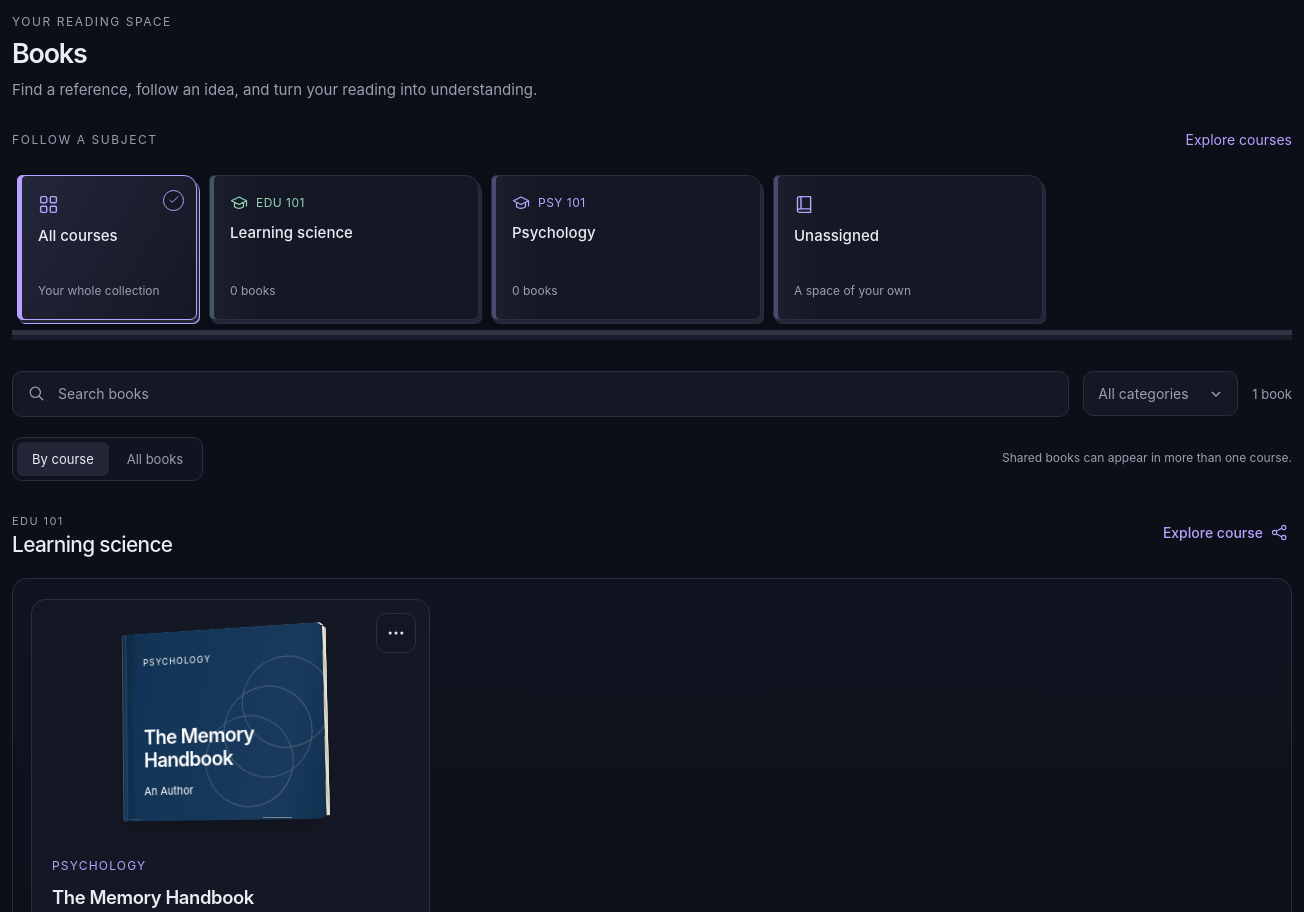
Scenario: connected study spaces › lets a shared book appear in each course shelf and switches to one complete collection
The image size is (1304, 912).
Expected: the heading "Learning science" is shown, [12, 532, 172, 558]
Click the button "All books" at (155, 459), box [112, 442, 198, 476]
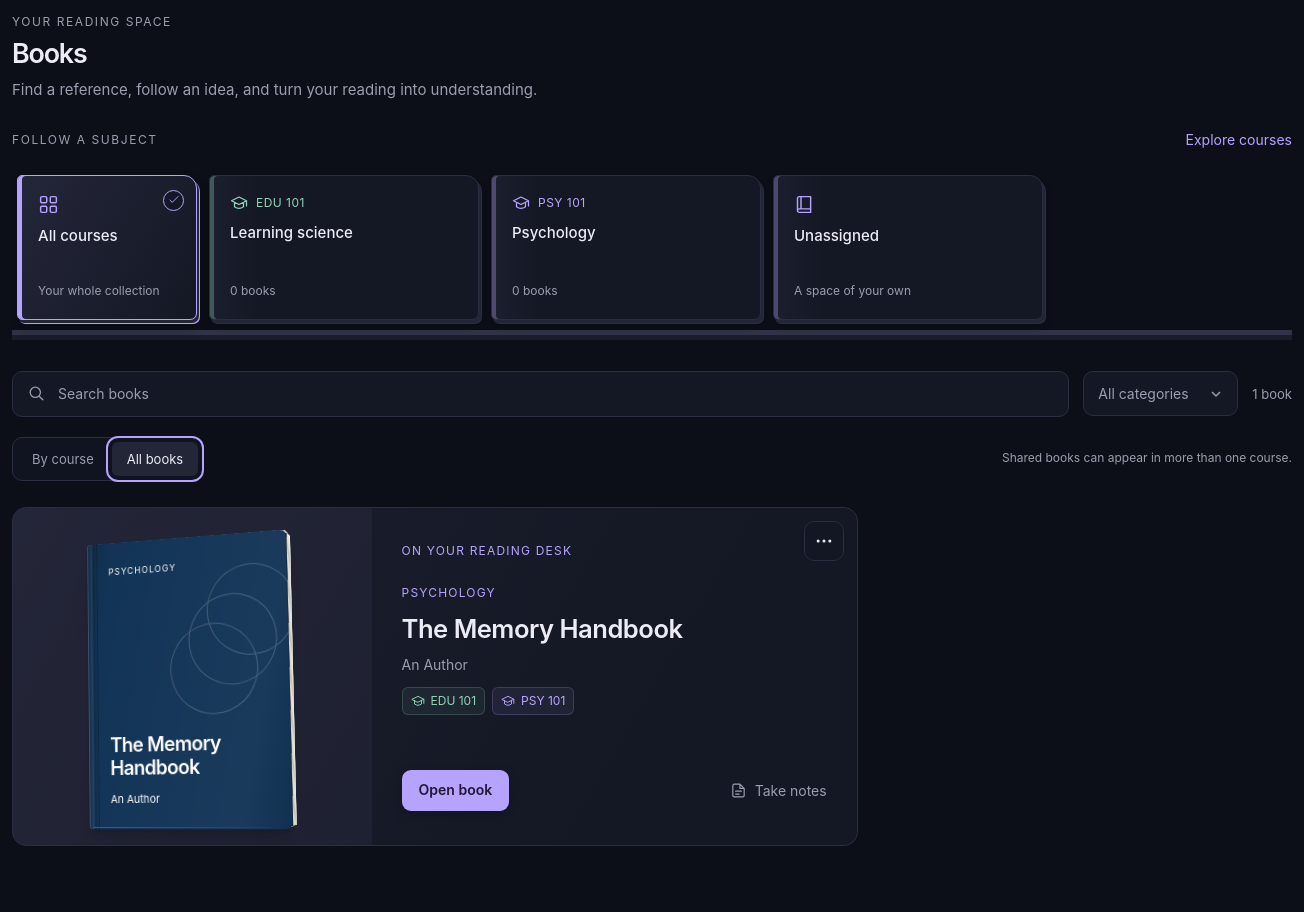
Expected: the number of headings "The Memory Handbook" is 1, [402, 613, 682, 644]
